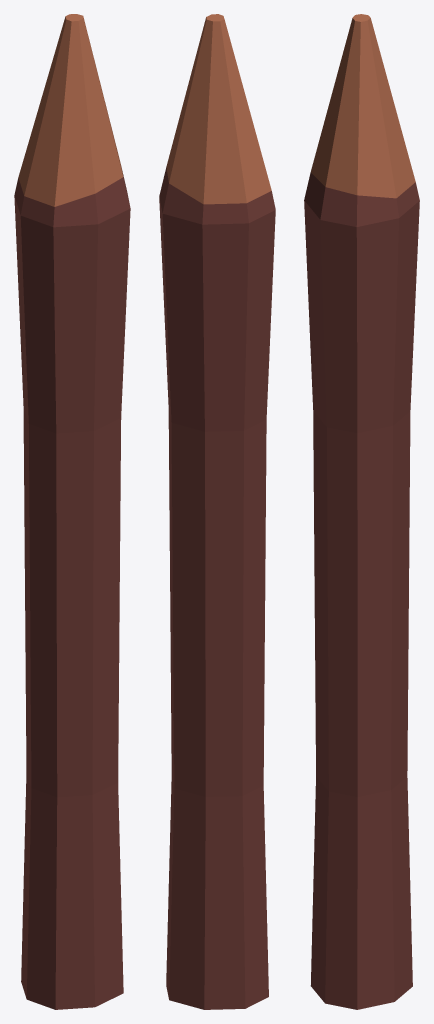
File: Wooden Pole Sharp 16.fbx
The picture shows the model from 3 angles, left to right: view 1: azimuth 30°, elevation 25°; view 2: azimuth 210°, elevation 25°; view 3: azimuth 270°, elevation 25°; orthographic projection.
Visible parts, largest first — view 1: Wooden Pole Sharp 16; view 2: Wooden Pole Sharp 16; view 3: Wooden Pole Sharp 16.
Boxes of the visible parts, x1,y1,x2,y2 form: Wooden Pole Sharp 16: (14, 14, 130, 1009); Wooden Pole Sharp 16: (159, 14, 275, 1009); Wooden Pole Sharp 16: (304, 14, 419, 1009).
Bounding box in the file's own units: 32.91 × 292 × 31.57.
